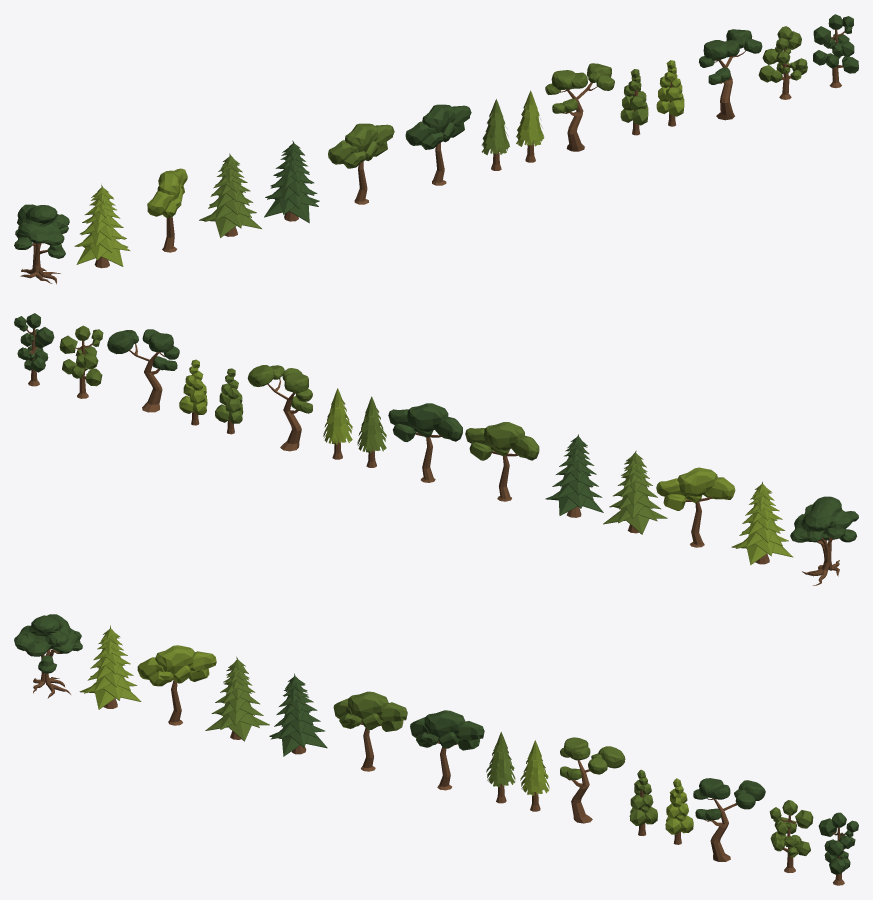
The model's file is arboles.glb.
3 renders of one model, top to bottom at view 1: azimuth 30°, elevation 25°; view 2: azimuth 150°, elevation 25°; view 3: azimuth 330°, elevation 25°, orthographic.
Visible parts, largest first — view 1: arbol-paraguas, pino-1, pino-3, pino-2, retorcido-1, frondoso-2, frondoso-3, retorcido-2, roble-2, roble-1, frondoso-1, alamo-2 (+3 smaller); view 2: arbol-paraguas, frondoso-1, frondoso-3, frondoso-2, pino-1, pino-3, pino-2, retorcido-2, retorcido-1, roble-1, roble-2, abeto-1 (+3 smaller); view 3: arbol-paraguas, frondoso-1, frondoso-3, frondoso-2, pino-3, pino-1, pino-2, retorcido-2, retorcido-1, roble-1, roble-2, alamo-2 (+3 smaller).
Boxes of the visible parts, <box> form: arbol-paraguas: <box>14,204,69,284</box>; pino-1: <box>74,184,130,268</box>; pino-3: <box>264,140,319,223</box>; pino-2: <box>199,153,261,237</box>; retorcido-1: <box>545,63,614,151</box>; frondoso-2: <box>328,123,394,204</box>; frondoso-3: <box>405,104,471,185</box>; retorcido-2: <box>699,29,762,120</box>; roble-2: <box>813,14,858,88</box>; roble-1: <box>758,26,807,99</box>; frondoso-1: <box>147,168,187,252</box>; alamo-2: <box>656,60,684,126</box>; arbol-paraguas: <box>790,496,858,585</box>; frondoso-1: <box>656,467,735,547</box>; frondoso-3: <box>388,403,462,482</box>; frondoso-2: <box>465,422,539,501</box>; pino-1: <box>731,481,793,565</box>; pino-3: <box>545,434,603,517</box>; pino-2: <box>603,450,667,534</box>; retorcido-2: <box>107,329,179,412</box>; retorcido-1: <box>247,365,312,451</box>; roble-1: <box>59,325,103,398</box>; roble-2: <box>14,313,54,386</box>; abeto-1: <box>357,396,386,467</box>; arbol-paraguas: <box>14,614,82,698</box>; frondoso-1: <box>137,645,216,725</box>; frondoso-3: <box>410,710,484,790</box>; frondoso-2: <box>333,691,407,771</box>; pino-3: <box>269,673,327,756</box>; pino-1: <box>79,625,141,709</box>; pino-2: <box>205,656,269,741</box>; retorcido-2: <box>693,778,765,861</box>; retorcido-1: <box>560,737,625,823</box>; roble-1: <box>769,800,813,872</box>; roble-2: <box>818,812,858,885</box>; alamo-2: <box>665,778,693,844</box>.
Bounding box in the file's own units: 81.49 × 7.5 × 6.11.
